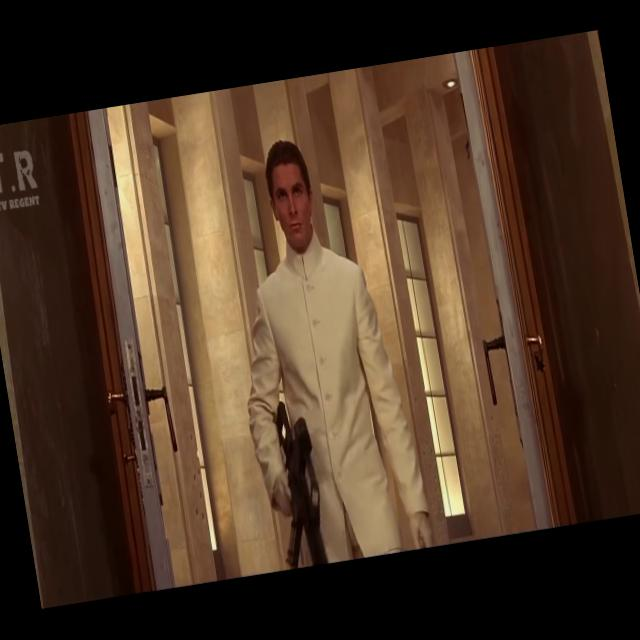long weapon: (252, 388, 342, 580)
